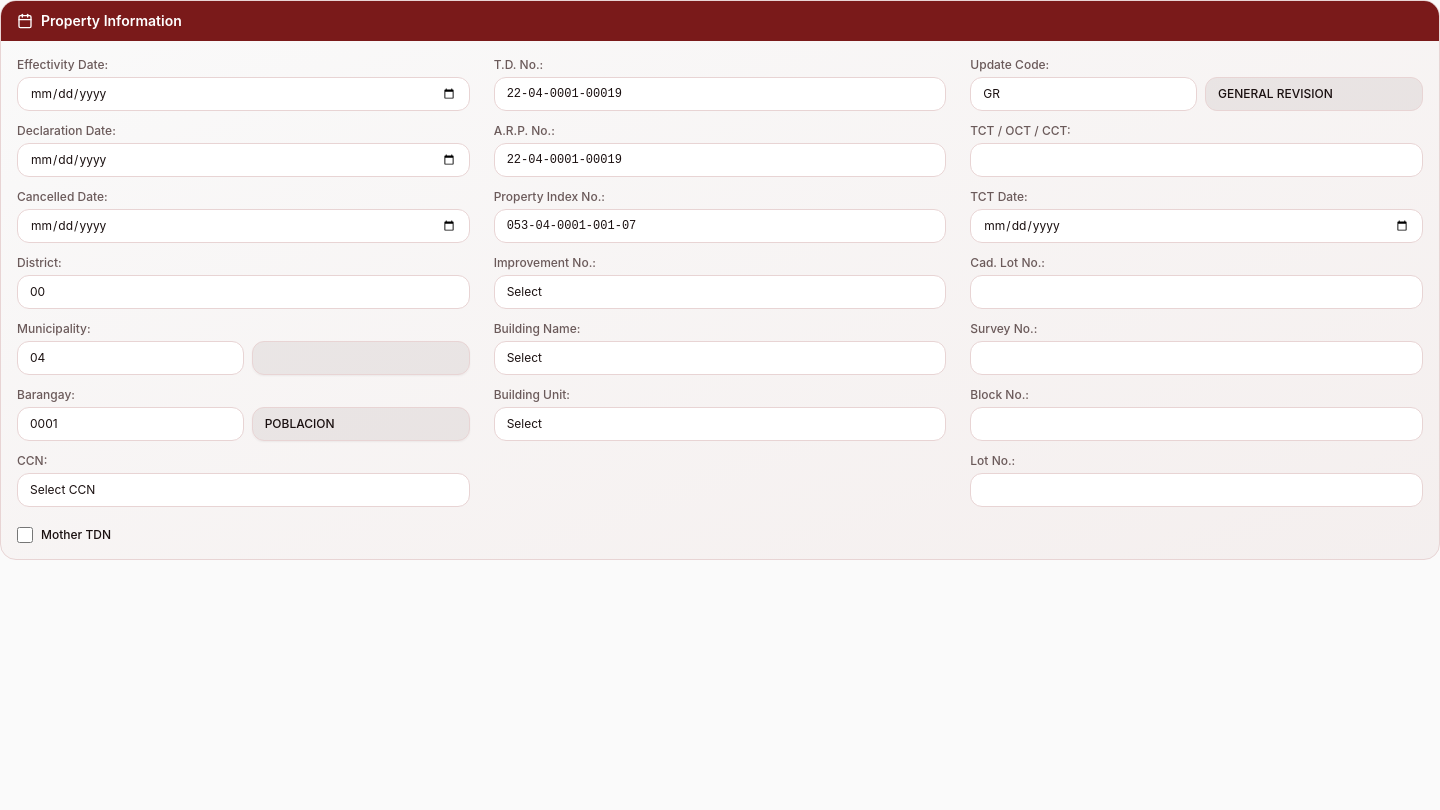
PropertyInformationSection location fields › clears barangay when municipality changes
Select "05" in the dropdown with test id "select-municipality" at (130, 358), box [17,341,244,375]
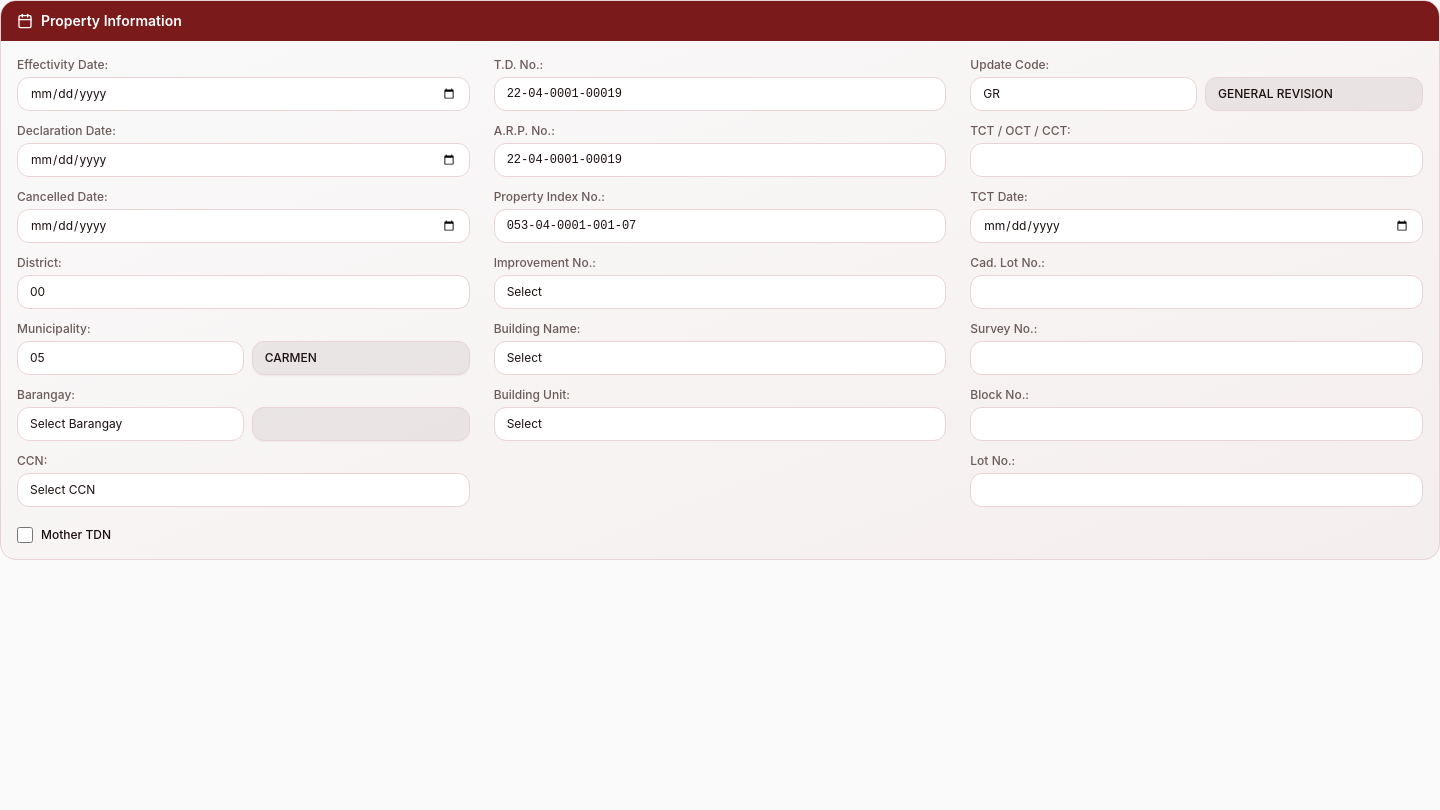
Now the field with test id "display-municipality-name" holds "CARMEN", box [252,341,470,375]
Now the dropdown with test id "select-barangay" shows "Select Barangay", box [17,407,244,441]
Now the field with test id "display-barangay-name" is empty, box [252,407,470,441]
